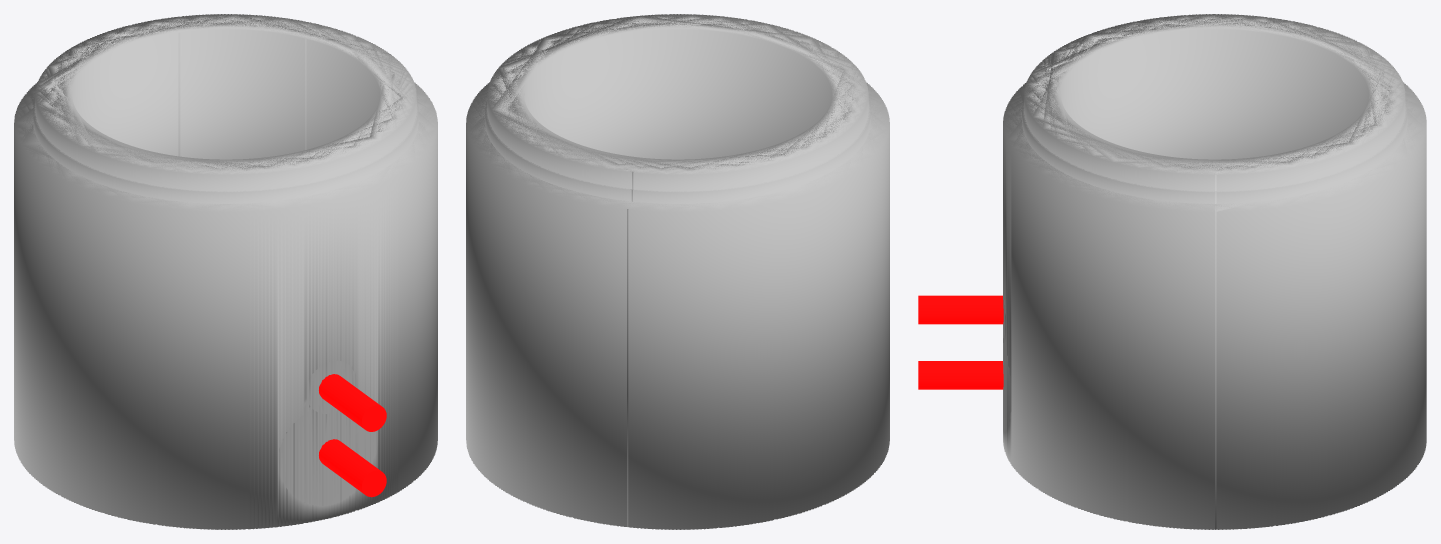
Rendered from LOT129_7358418d.glb.
The picture shows the model from 3 angles, left to right: view 1: azimuth 30°, elevation 25°; view 2: azimuth 150°, elevation 25°; view 3: azimuth 270°, elevation 25°; orthographic projection.
Parts seen in each view (by area): view 1: 1200x1.219r_Obj, Cylinder.001, Cylinder.003; view 2: 1200x1.219r_Obj; view 3: 1200x1.219r_Obj, Cylinder.003, Cylinder.001.
Part boxes in pixels (bbox=[...]): 1200x1.219r_Obj: bbox=[14, 14, 437, 529]; Cylinder.001: bbox=[319, 439, 386, 497]; Cylinder.003: bbox=[319, 374, 386, 431]; 1200x1.219r_Obj: bbox=[466, 14, 889, 529]; 1200x1.219r_Obj: bbox=[1003, 14, 1426, 529]; Cylinder.003: bbox=[918, 295, 1003, 324]; Cylinder.001: bbox=[918, 361, 1003, 389].
Size of the model in its own units: 1.47 by 1.33 by 1.77.
